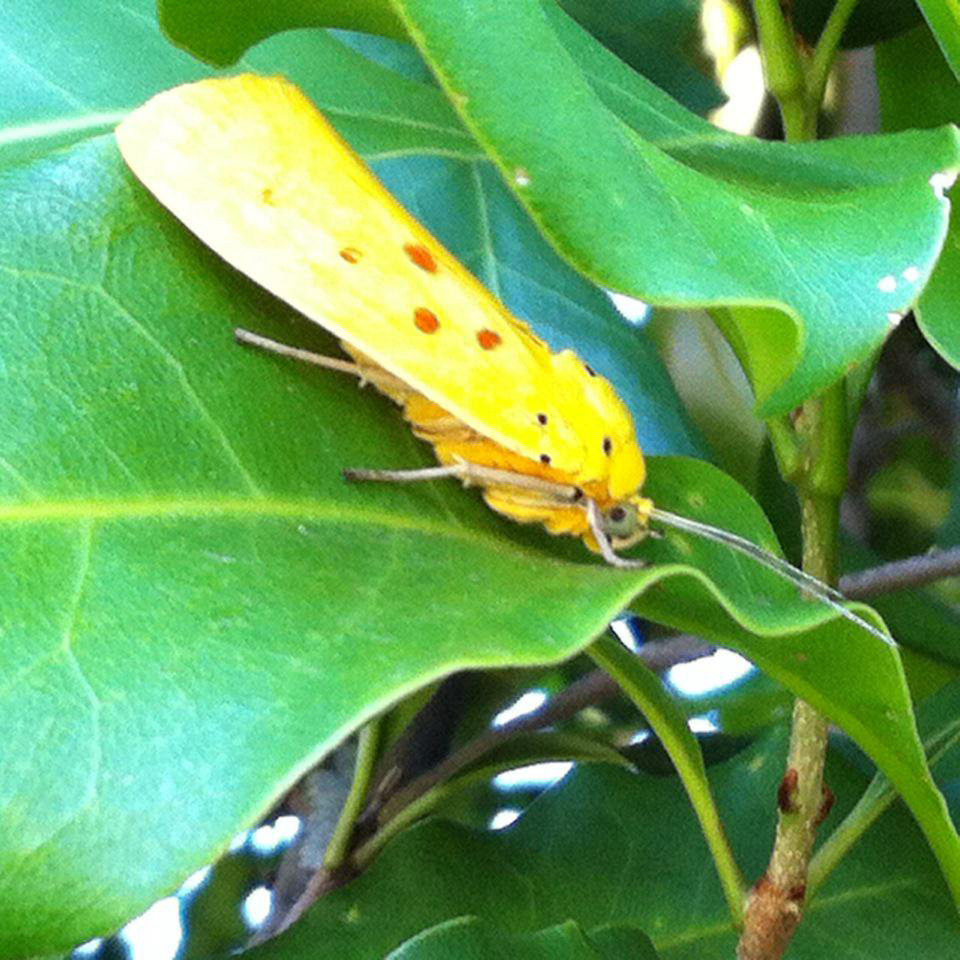Agape chloropyga: (104, 63, 906, 652)
moth: (106, 65, 908, 654)
